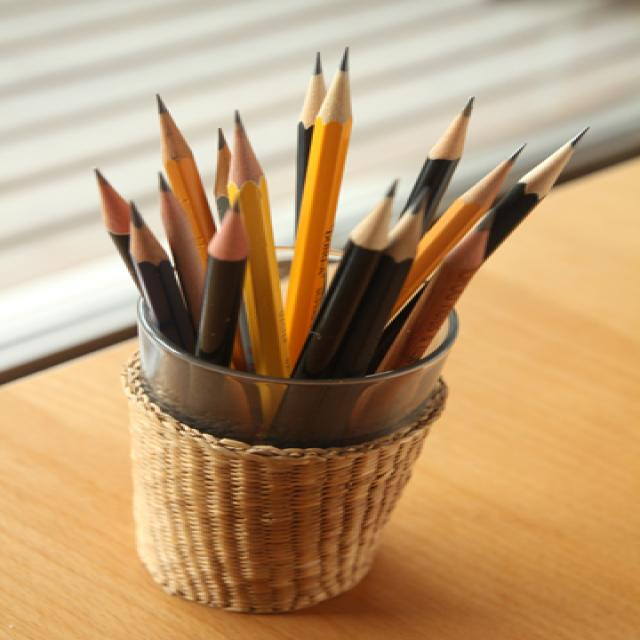pencil: (262, 167, 403, 465), (297, 180, 429, 455), (342, 217, 495, 430), (277, 37, 366, 387), (219, 84, 304, 447), (381, 133, 531, 336), (148, 87, 251, 374), (130, 193, 237, 421), (156, 163, 251, 374), (481, 113, 593, 275), (185, 194, 259, 436), (287, 42, 341, 350), (93, 164, 186, 315), (392, 89, 479, 248), (210, 122, 277, 315)
